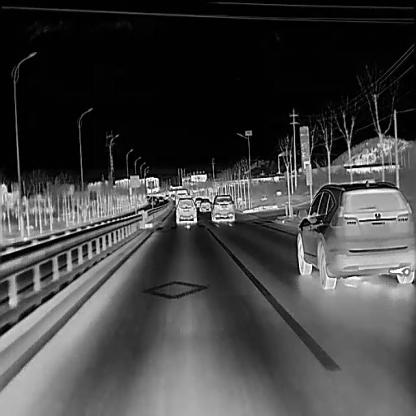bus: (175, 188, 187, 206)
car: (295, 177, 415, 290), (209, 193, 234, 222), (173, 196, 196, 225), (198, 198, 210, 212), (193, 197, 202, 207), (158, 196, 164, 201), (150, 199, 154, 204)
